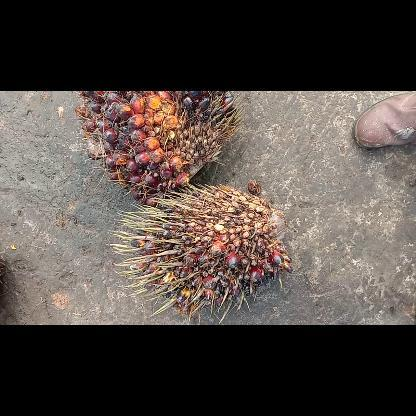Kurang masak: (74, 90, 244, 206)
TBS abnormal: (108, 182, 292, 324)
